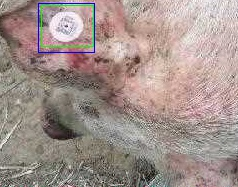text: (41, 5, 93, 46)
